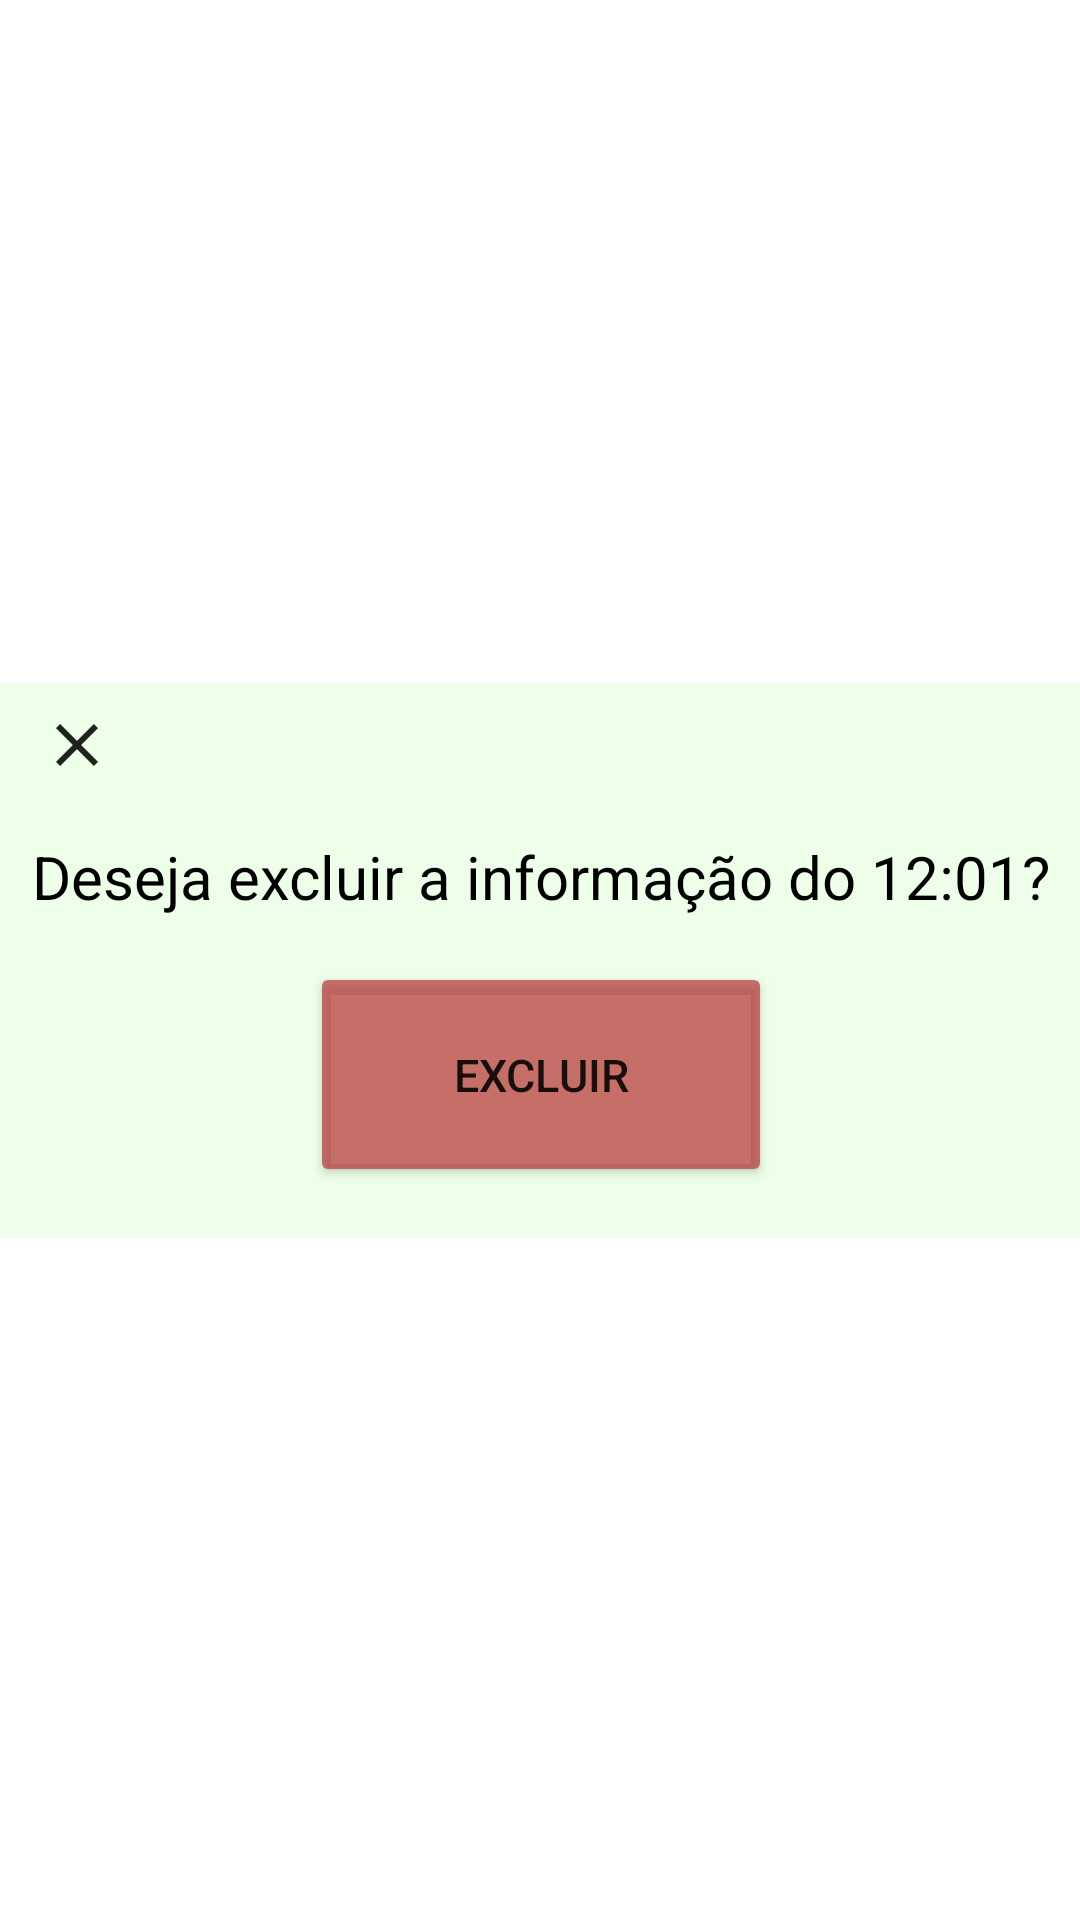

Point at icon controls on the screen. Image size 1080*1920, points as (x,y).
close: (77,745)
